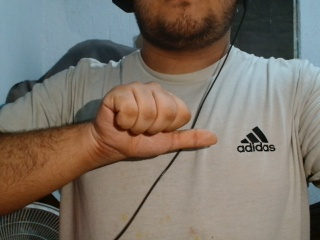Izquierda: (87, 78, 227, 174)
